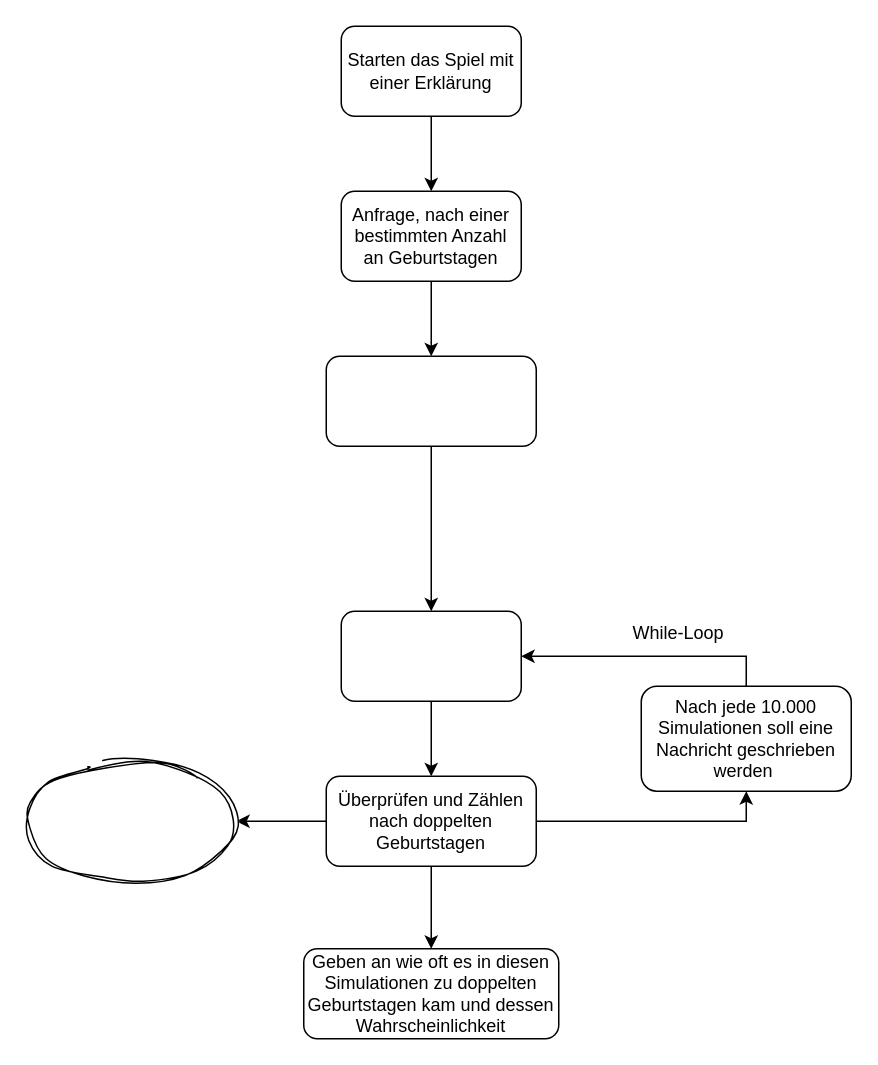
This 878x1065 diagram has some shape labels left out. Here are the shapes that lost their labels. From the top down, the centre of each, then its label:
point (430, 400): Generieren zufällig diese Anzahl an Geburtstagen und zeigen sie auf (Vorschau)
point (430, 655): Generieren zufällig diese Anzahl an Geburtstagen
point (130, 820): Anzahl wird bei jedem Durchgang gezählt/addiert
